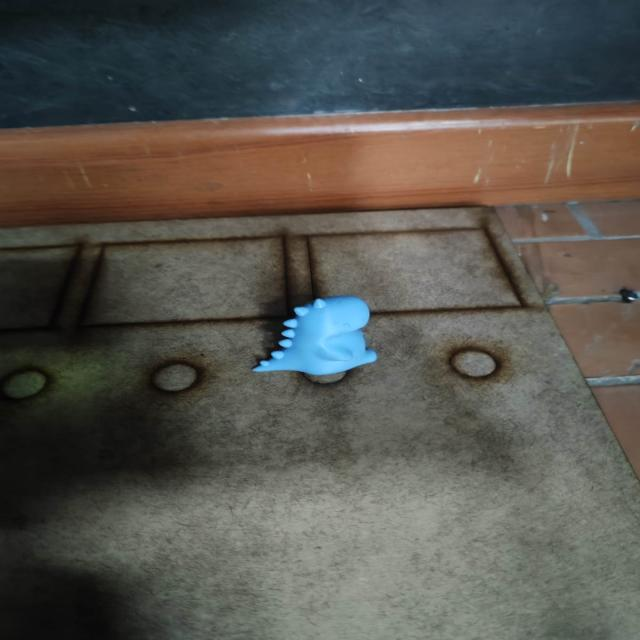DINO: (243, 286, 398, 384)
